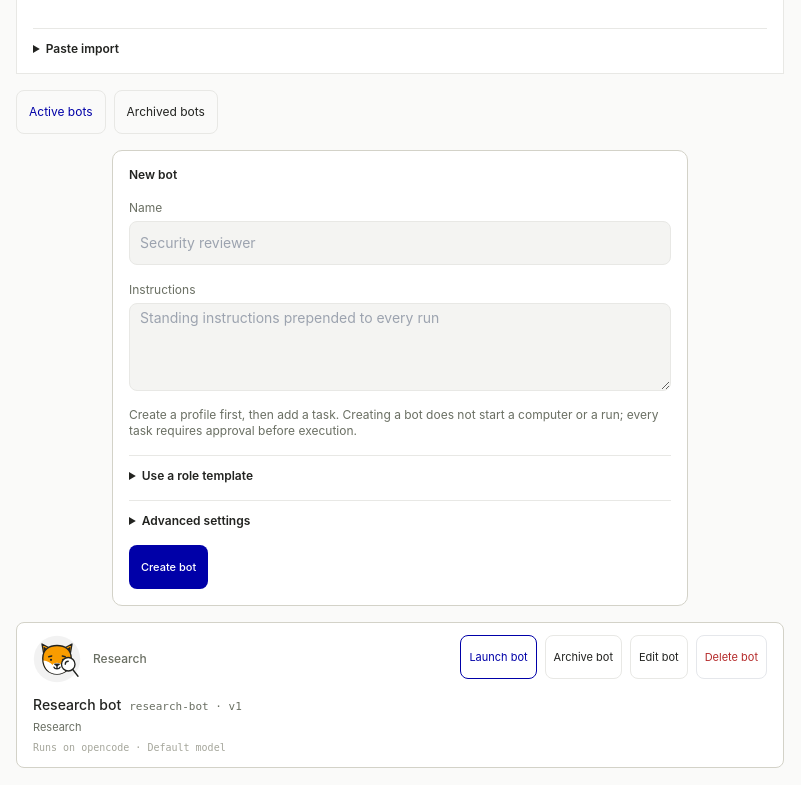
CustomAgentsView › ignores repeated launch clicks while a conversation request is pending
(page scrolled)
Click the button with aria-label "Launch bot Research bot": [498, 657] box x1=460 y1=635 x2=537 y2=679
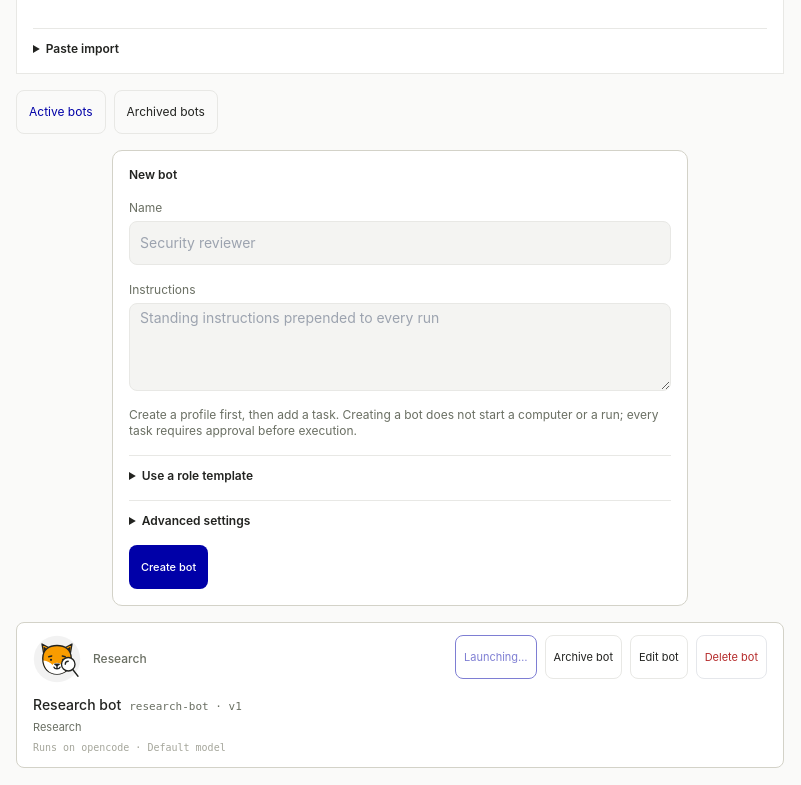
Click the button with aria-label "Launch bot Research bot": [496, 657] box x1=455 y1=635 x2=537 y2=679
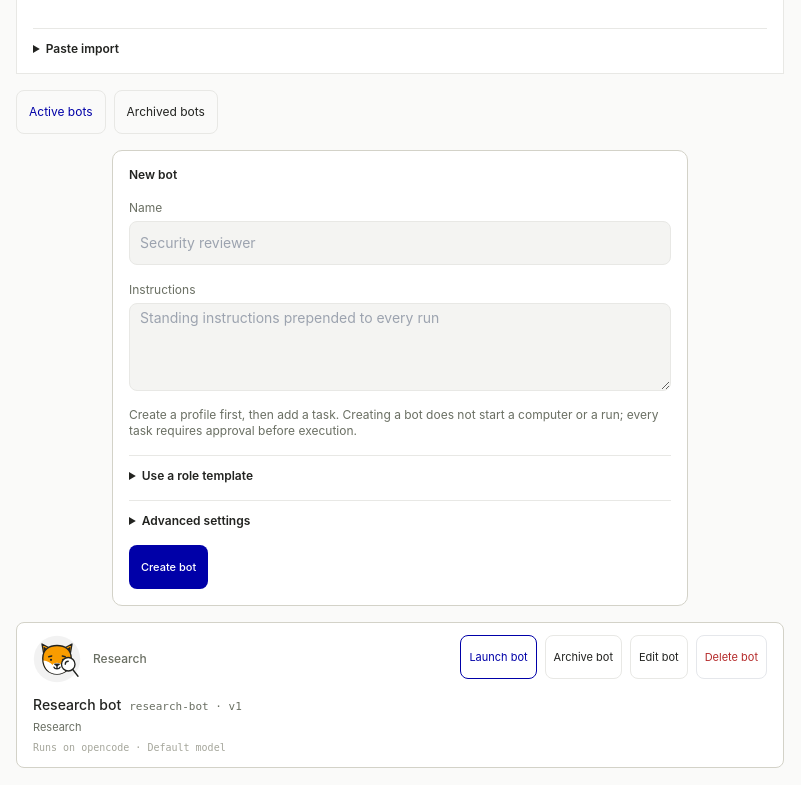
Result: the button with aria-label "Launch bot Research bot" is enabled at x1=460 y1=635 x2=537 y2=679
